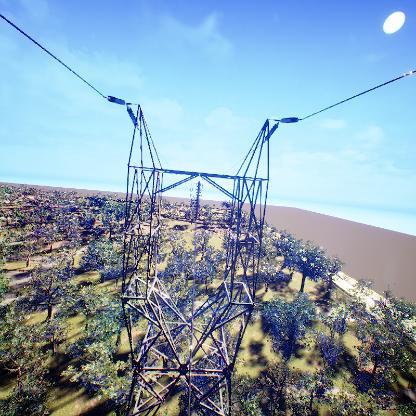tower: (102, 90, 305, 416)
